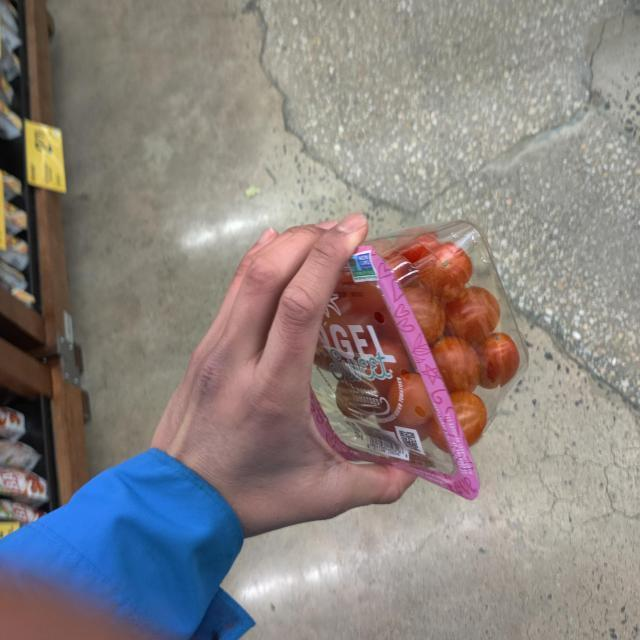Tomatoes: (278, 165, 558, 525)
